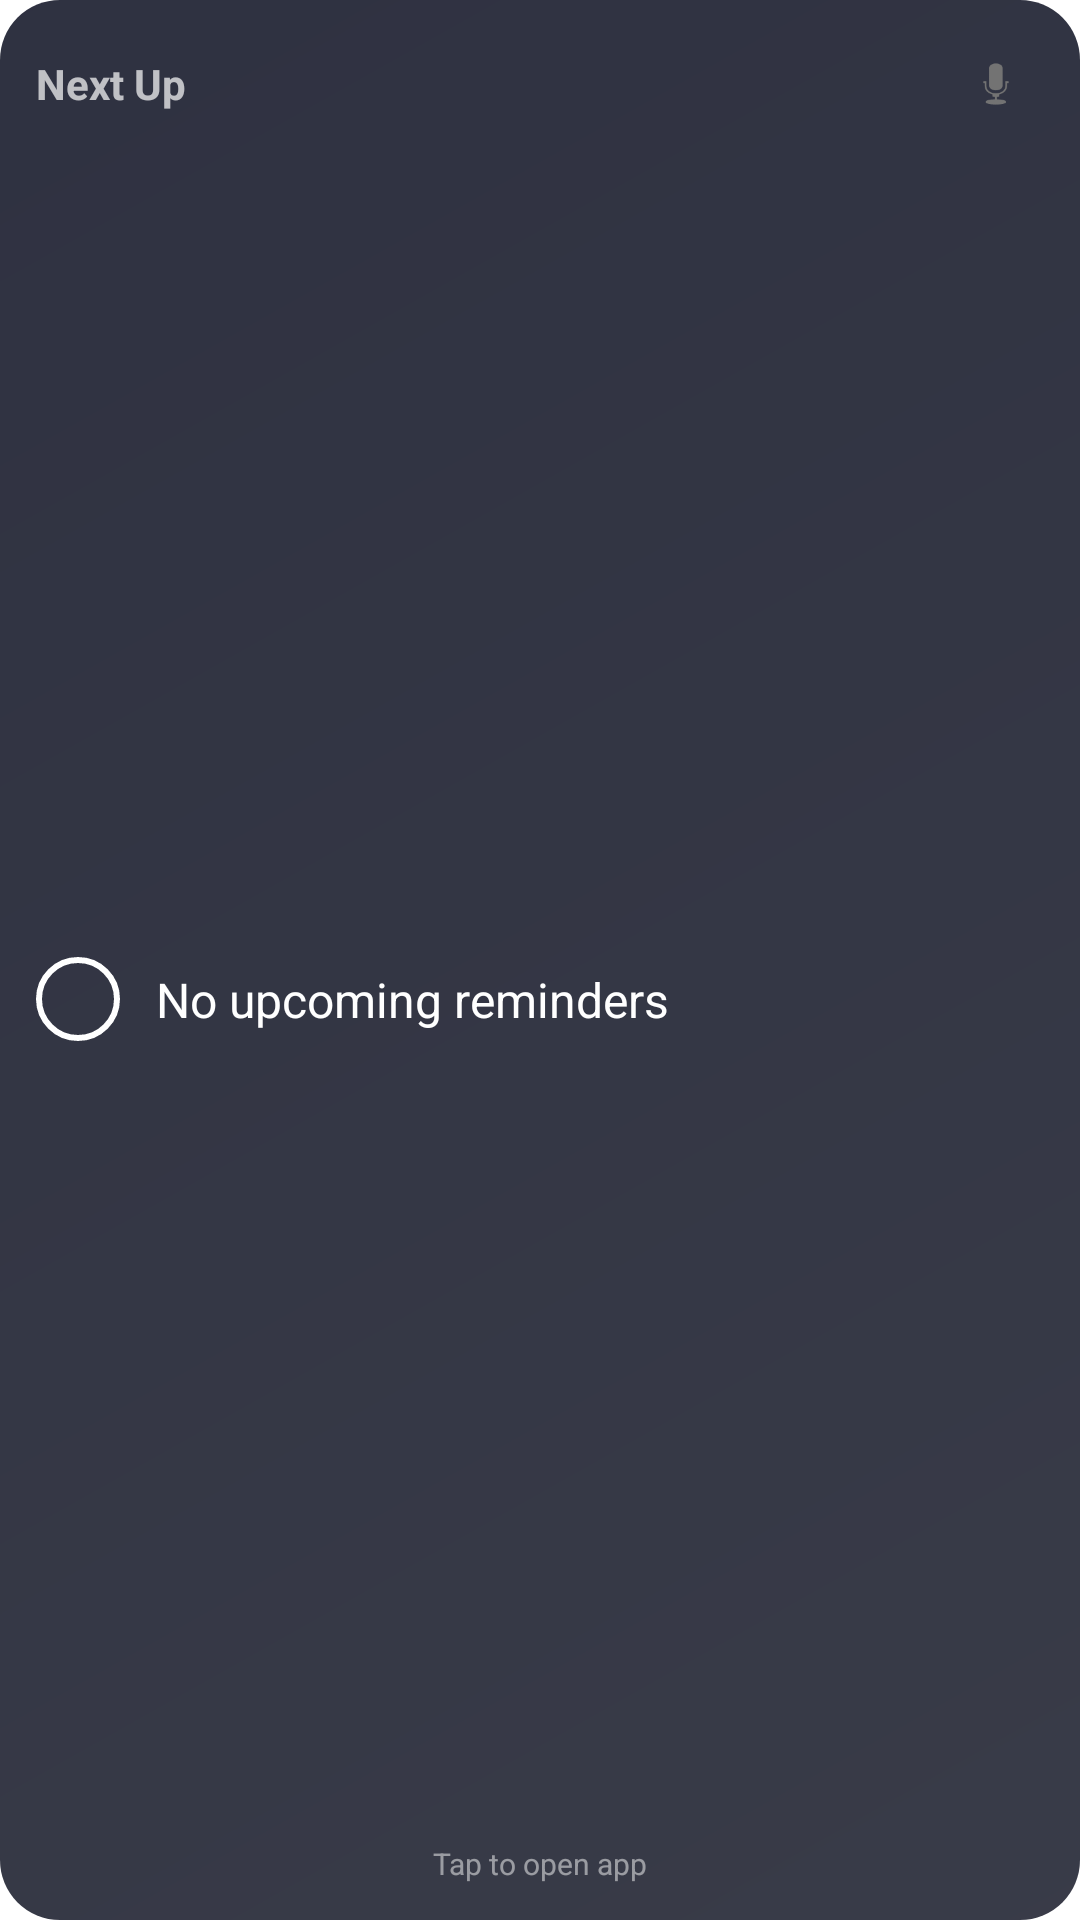

Screen size 1080w x 1920h. Icon name, then its center in pixels as [x,y]:
Mark complete: [78,999]
